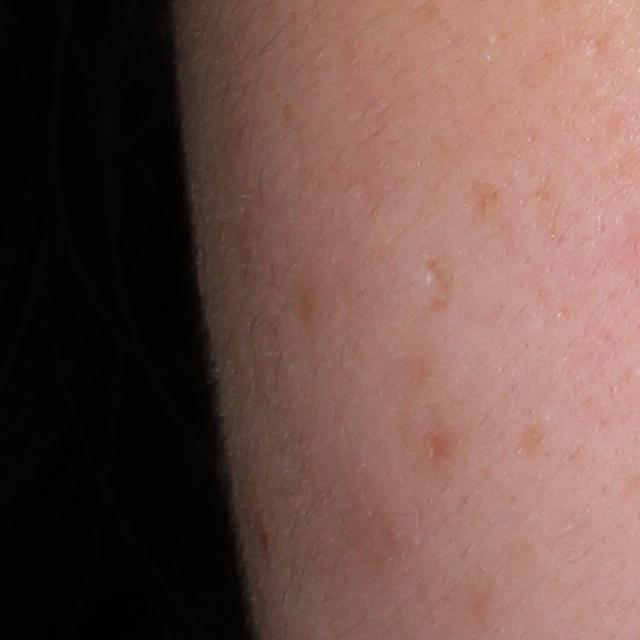melasma: (468, 181, 505, 221)
